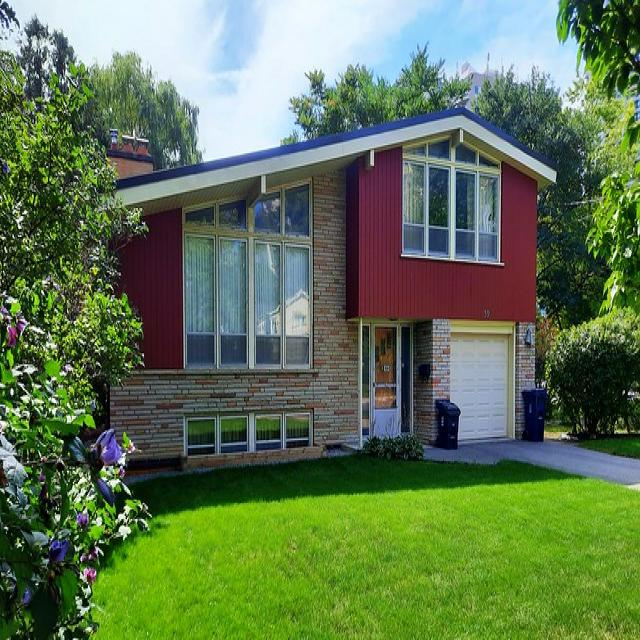Normal_building: (51, 101, 558, 465)
